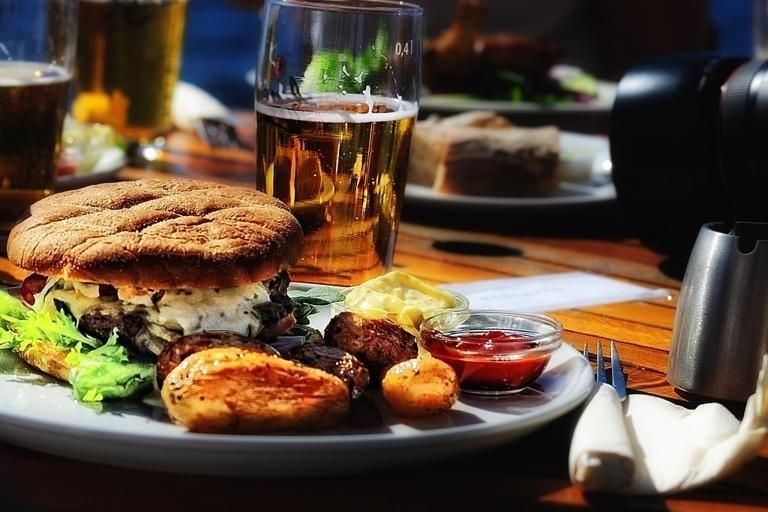Burger: (43, 188, 328, 396)
